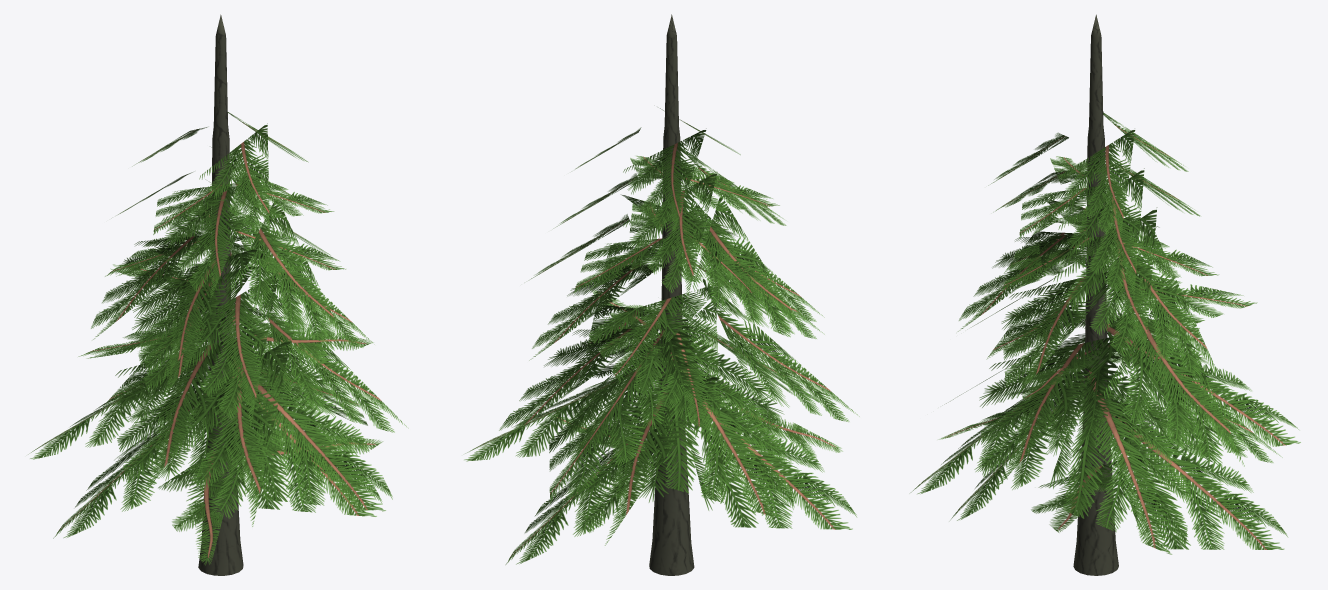
Rendered from pine2LODTest.glb.
3 views of the same model, side by side, from view 1: azimuth 30°, elevation 25°; view 2: azimuth 150°, elevation 25°; view 3: azimuth 270°, elevation 25° (orthographic).
Parts seen in each view (by area): view 1: Branches, Trunk; view 2: Branches, Trunk; view 3: Branches, Trunk.
Part boxes in pixels (<box>): Branches: <box>28,112,408,565</box>; Trunk: <box>198,14,243,575</box>; Branches: <box>464,108,859,564</box>; Trunk: <box>649,14,694,575</box>; Branches: <box>910,112,1300,554</box>; Trunk: <box>1073,14,1118,575</box>.
Bounding box in the file's own units: 8.41 × 12.24 × 8.29.
2 materials, 2 textured.
